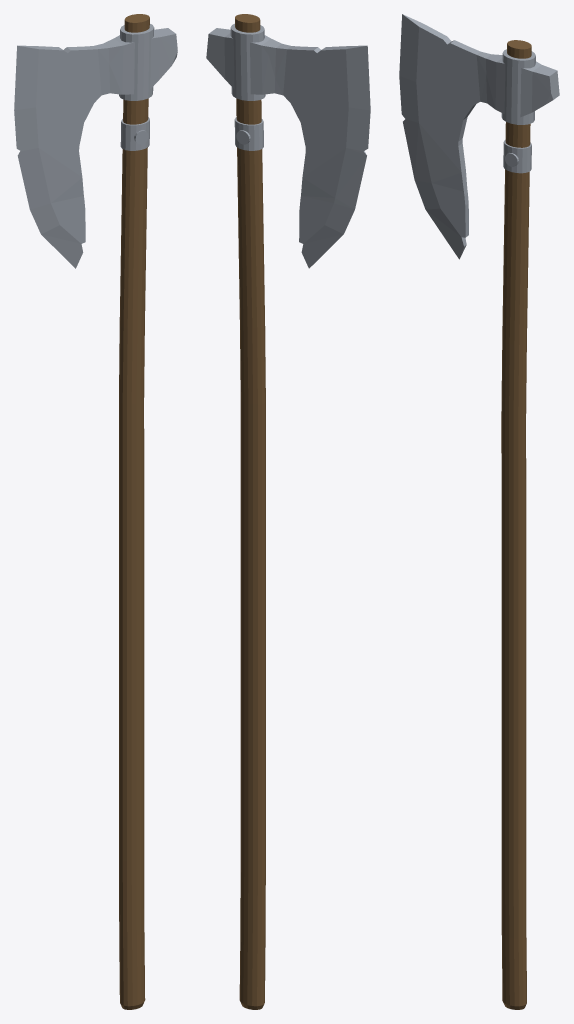
File: Poleaxe.fbx
3 renders of one model, left to right at view 1: azimuth 30°, elevation 25°; view 2: azimuth 150°, elevation 25°; view 3: azimuth 330°, elevation 25°, orthographic. The views are drawn at different scales.
Parts seen in each view (by area): view 1: Poleaxe 0; view 2: Poleaxe 0; view 3: Poleaxe 0.
Part boxes in pixels (<box>): Poleaxe 0: <box>14,14,177,1009</box>; Poleaxe 0: <box>206,14,370,1009</box>; Poleaxe 0: <box>399,14,559,1009</box>.
Bounding box in the file's own units: 0.3225 × 1.9 × 0.0502.
